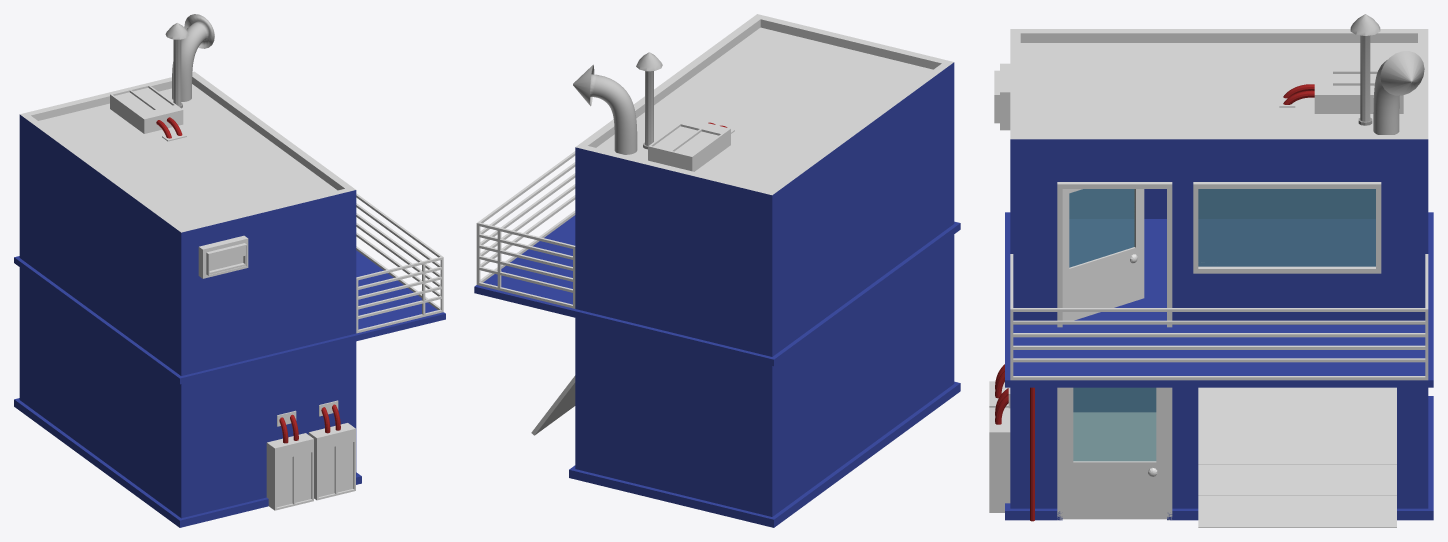
File: House3Open.fbx
3 views of the same model, side by side, from view 1: azimuth 30°, elevation 25°; view 2: azimuth 150°, elevation 25°; view 3: azimuth 270°, elevation 25° (orthographic). The views are drawn at different scales.
Visible parts, largest first — view 1: pCube44, pCube2, pCube57, pCube55, polySurface7, pCube64, pCylinder9, pCylinder7; view 2: pCube44, pCube2, polySurface7, pCylinder9, pCylinder7, pCube72; view 3: pCube44, pCube72, pCube2, pCube71, pCube73, pCube68, pCube50, pCube67, pCylinder9, polySurface7, pCube55, polySurface1 (+8 smaller).
Part boxes in pixels (bbox=[...]): pCube44: bbox=[14, 71, 361, 527]; pCube2: bbox=[356, 250, 445, 340]; pCube57: bbox=[266, 433, 313, 510]; pCube55: bbox=[308, 423, 355, 500]; polySurface7: bbox=[110, 85, 183, 133]; pCube64: bbox=[198, 235, 248, 278]; pCylinder9: bbox=[172, 14, 214, 101]; pCylinder7: bbox=[165, 23, 189, 105]; pCube44: bbox=[569, 14, 960, 527]; pCube2: bbox=[474, 215, 575, 316]; polySurface7: bbox=[648, 118, 730, 171]; pCylinder9: bbox=[573, 64, 637, 154]; pCylinder7: bbox=[636, 52, 662, 145]; pCube72: bbox=[531, 375, 575, 435]; pCube44: bbox=[1005, 29, 1433, 520]; pCube72: bbox=[1198, 387, 1396, 527]; pCube2: bbox=[1005, 325, 1433, 387]; pCube71: bbox=[1198, 189, 1375, 266]; pCube73: bbox=[1062, 189, 1144, 320]; pCube68: bbox=[1062, 387, 1166, 519]; pCube50: bbox=[1057, 182, 1381, 520]; pCube67: bbox=[1073, 387, 1156, 461]; pCylinder9: bbox=[1373, 51, 1424, 134]; polySurface7: bbox=[1314, 70, 1403, 113]; pCube55: bbox=[989, 407, 1010, 512]; polySurface1: bbox=[1013, 358, 1425, 362].
Size of the model in its own units: 7.6 by 10.09 by 8.5.
